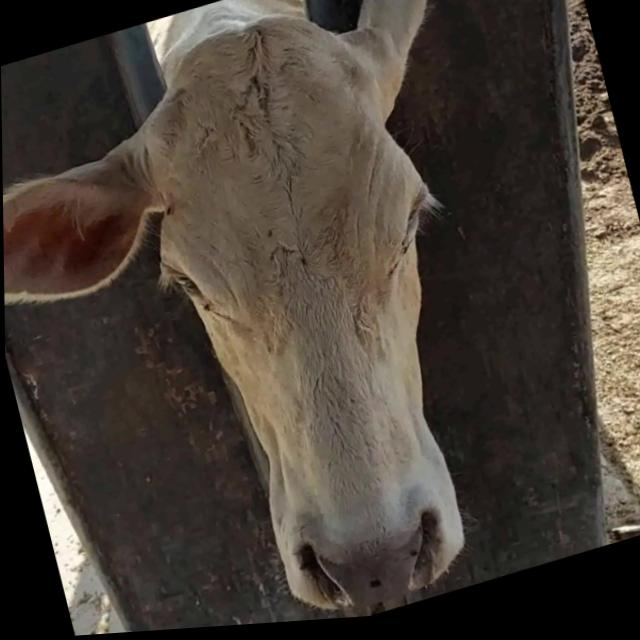cowFace: (109, 0, 510, 634)
